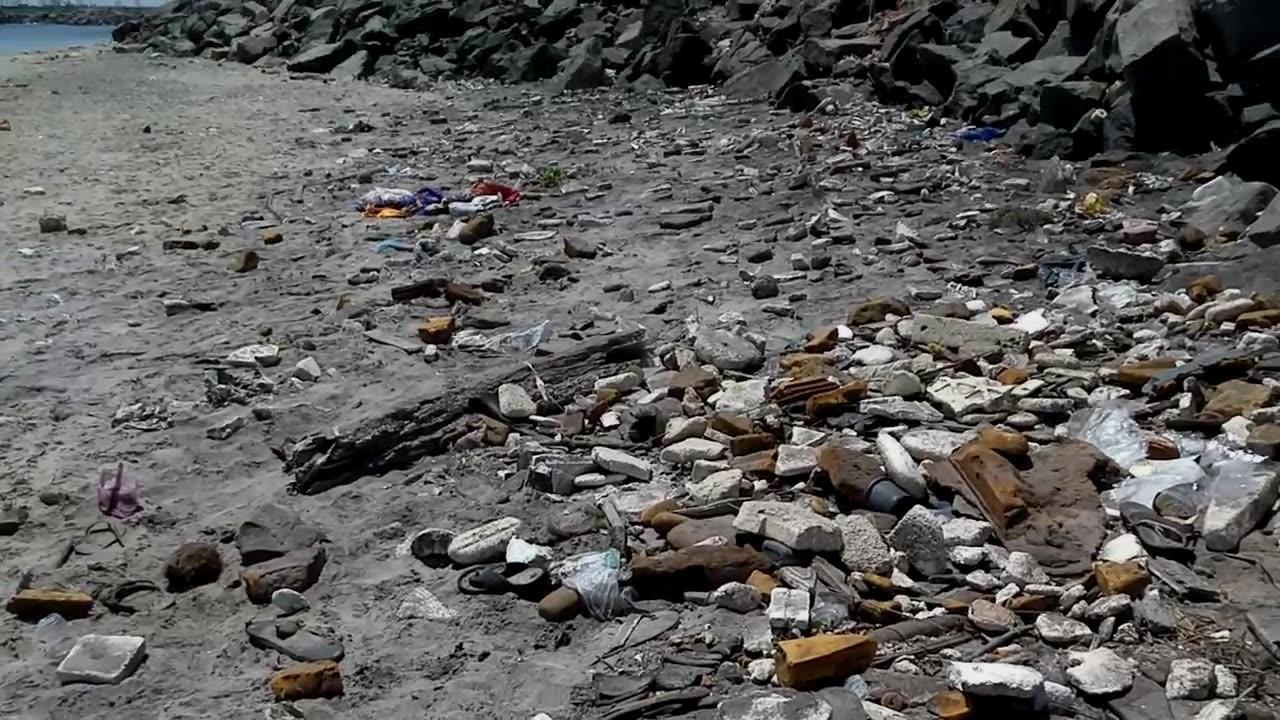large collection of objects: (912, 313, 1028, 354)
obj: (279, 325, 650, 492), (952, 432, 1108, 589), (352, 182, 518, 218), (632, 547, 760, 592), (247, 615, 345, 670), (1120, 491, 1196, 559), (778, 633, 878, 684), (243, 550, 330, 606), (1072, 406, 1146, 469), (776, 352, 840, 402), (824, 450, 876, 505), (462, 562, 547, 594), (166, 544, 220, 592), (806, 379, 865, 416), (848, 294, 912, 325), (862, 478, 914, 516), (418, 315, 456, 342), (712, 414, 752, 439), (751, 274, 780, 298)
sand/background: (0, 0, 1279, 200)
